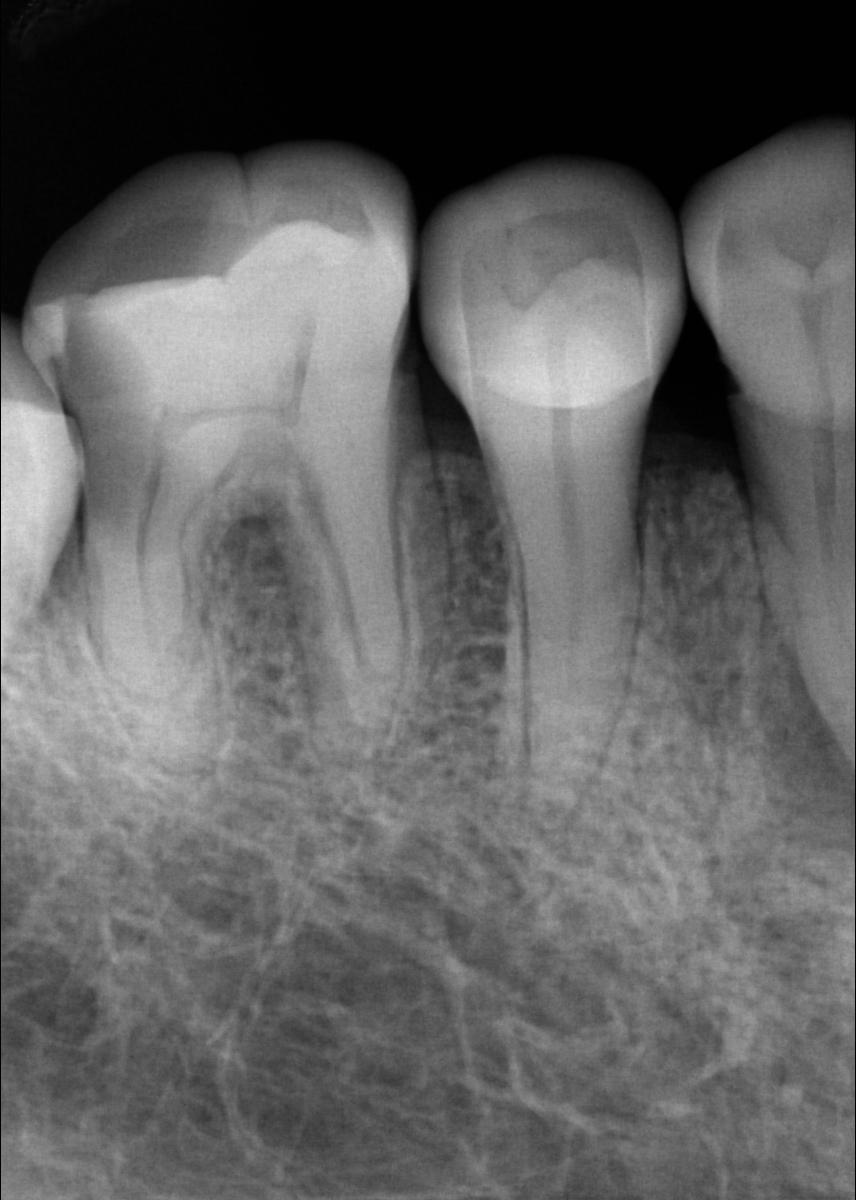Furcation Involvement: (759, 597, 856, 860)
